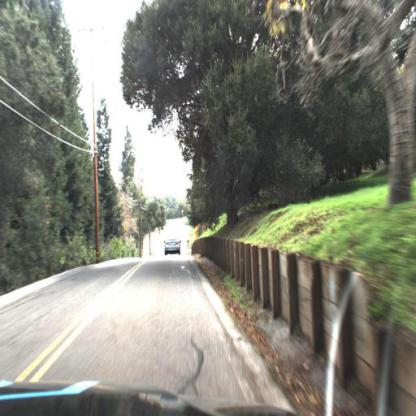car: (164, 231, 184, 261)
